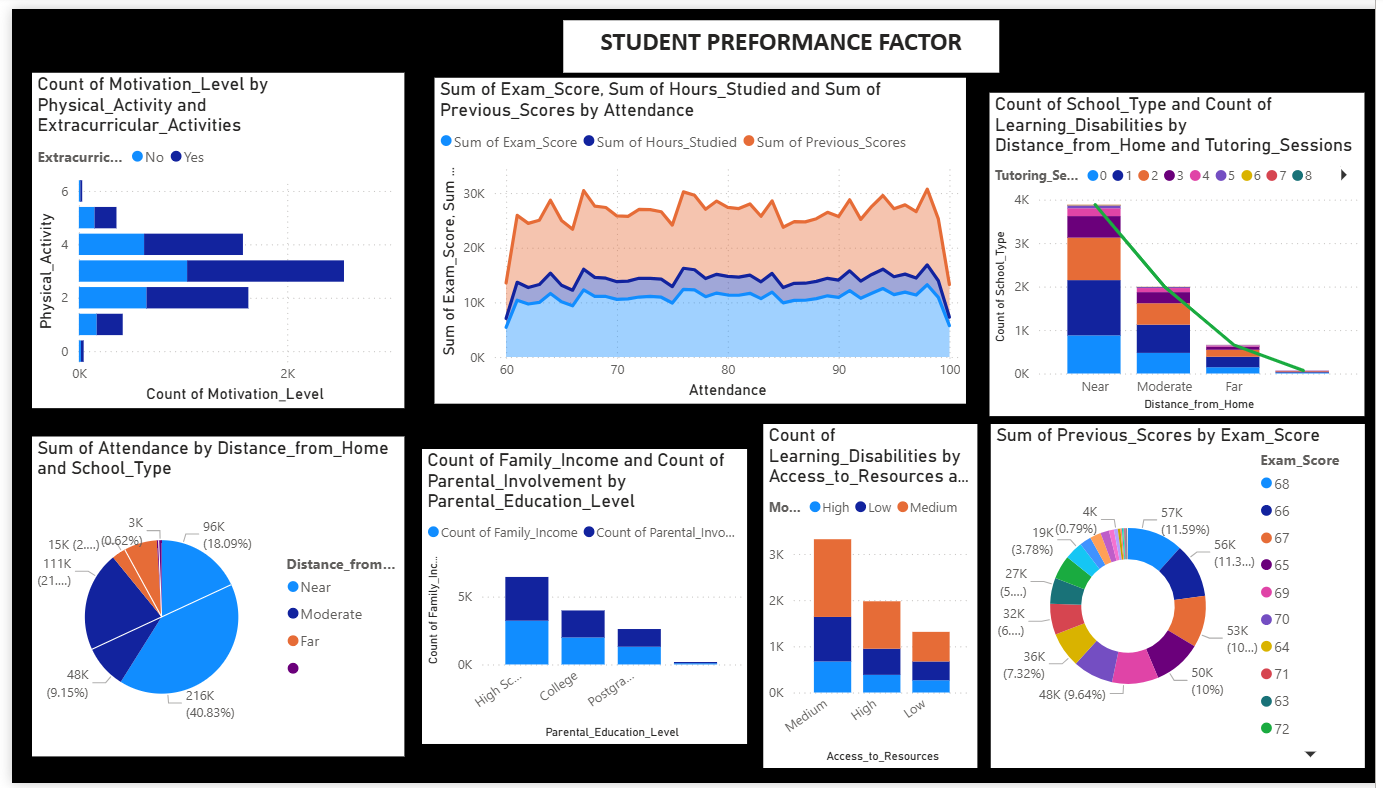

The dashboard page shown, as its layout file describes it:
{"tool":"powerbi","page":{"name":"Page 1","canvas":[1280,720],"ordinal":0},"visuals":[{"type":"pieChart","fields":{"Category":["StudentPerformanceFactors.Distance_from_Home"],"Y":["Sum(StudentPerformanceFactors.Attendance)"],"Series":["StudentPerformanceFactors.School_Type"]},"box":[18.6,397.7,346.5,297.7],"z":0},{"type":"textbox","box":[512.2,10,405.6,48.9],"z":1000},{"type":"barChart","fields":{"Category":["StudentPerformanceFactors.Physical_Activity"],"Y":["CountNonNull(StudentPerformanceFactors.Motivation_Level)"],"Series":["StudentPerformanceFactors.Extracurricular_Activities"]},"box":[18.6,59.3,346.5,311.6],"z":2000},{"type":"donutChart","fields":{"Y":["Sum(StudentPerformanceFactors.Previous_Scores)"],"Category":["StudentPerformanceFactors.Exam_Score","StudentPerformanceFactors.Teacher_Quality"]},"box":[910.5,386,347.7,319.8],"z":3000},{"type":"lineStackedColumnComboChart","fields":{"Category":["StudentPerformanceFactors.Parental_Education_Level"],"Y":["CountNonNull(StudentPerformanceFactors.Family_Income)","CountNonNull(StudentPerformanceFactors.Parental_Involvement)"]},"box":[381.4,409.3,302.3,274.4],"z":4000},{"type":"lineStackedColumnComboChart","fields":{"Y":["CountNonNull(StudentPerformanceFactors.School_Type)"],"Y2":["CountNonNull(StudentPerformanceFactors.Learning_Disabilities)"],"Category":["StudentPerformanceFactors.Distance_from_Home"],"Series":["StudentPerformanceFactors.Tutoring_Sessions"]},"box":[909.3,77.9,348.8,301.2],"z":5000},{"type":"columnChart","fields":{"Category":["StudentPerformanceFactors.Access_to_Resources"],"Series":["StudentPerformanceFactors.Motivation_Level"],"Y":["CountNonNull(StudentPerformanceFactors.Learning_Disabilities)"]},"box":[698.8,386,198.8,319.8],"z":6000},{"type":"stackedAreaChart","fields":{"Category":["StudentPerformanceFactors.Attendance"],"Y":["Sum(StudentPerformanceFactors.Exam_Score)","Sum(StudentPerformanceFactors.Hours_Studied)","Sum(StudentPerformanceFactors.Previous_Scores)"]},"box":[393,64,494.2,303.5],"z":7000}]}

Visuals, with their boxes in screenshot pixels (x1, y1, x2, y2), scaled from the page's 1280x720 canvas onto the 1383x788 screenshot:
pieChart - StudentPerformanceFactors.Distance_from_Home x Sum(StudentPerformanceFactors.Attendance): BBox(20, 435, 394, 761)
textbox: BBox(553, 11, 992, 64)
barChart - StudentPerformanceFactors.Physical_Activity x CountNonNull(StudentPerformanceFactors.Motivation_Level): BBox(20, 65, 394, 406)
donutChart - Sum(StudentPerformanceFactors.Previous_Scores) x StudentPerformanceFactors.Exam_Score: BBox(984, 422, 1359, 772)
lineStackedColumnComboChart - StudentPerformanceFactors.Parental_Education_Level x CountNonNull(StudentPerformanceFactors.Family_Income): BBox(412, 448, 739, 748)
lineStackedColumnComboChart - CountNonNull(StudentPerformanceFactors.School_Type) x CountNonNull(StudentPerformanceFactors.Learning_Disabilities): BBox(982, 85, 1359, 415)
columnChart - StudentPerformanceFactors.Access_to_Resources x StudentPerformanceFactors.Motivation_Level: BBox(755, 422, 970, 772)
stackedAreaChart - StudentPerformanceFactors.Attendance x Sum(StudentPerformanceFactors.Exam_Score): BBox(425, 70, 959, 402)
